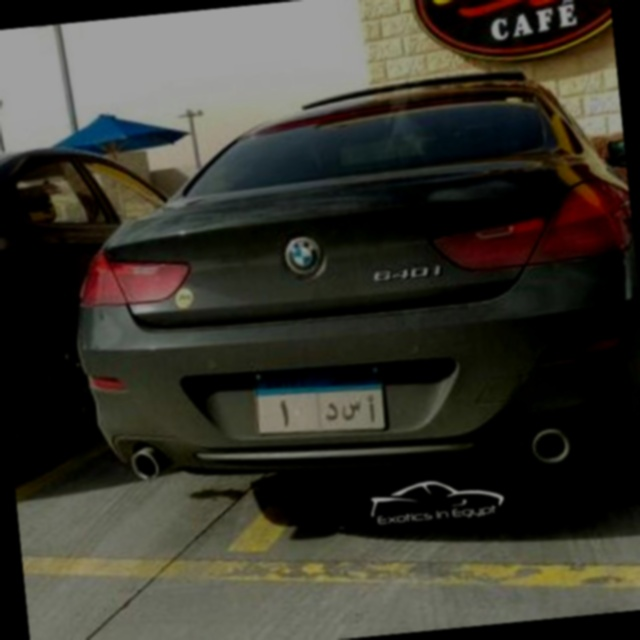License Plate: (249, 359, 392, 445)
